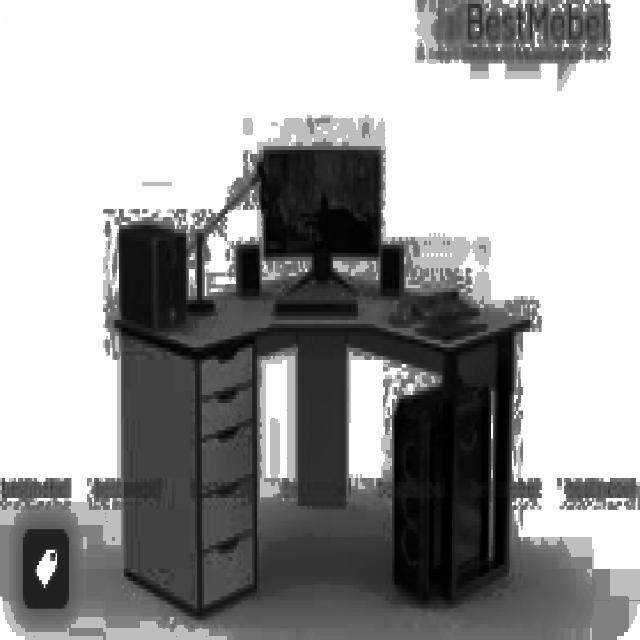table: (112, 269, 530, 612)
